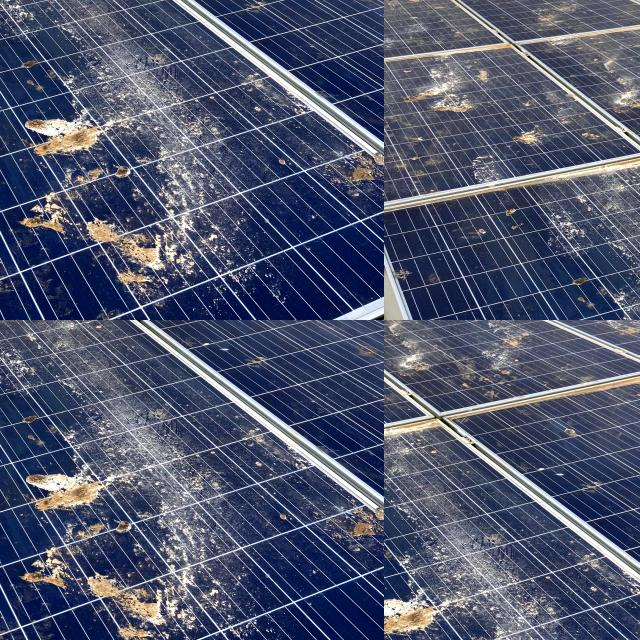bird: (384, 572, 497, 640), (384, 323, 454, 382), (482, 320, 537, 376), (384, 381, 433, 423), (390, 320, 422, 381), (384, 320, 415, 346)
hotspot: (508, 11, 603, 55), (0, 320, 76, 367), (103, 320, 151, 340)
panel: (15, 0, 120, 22)
